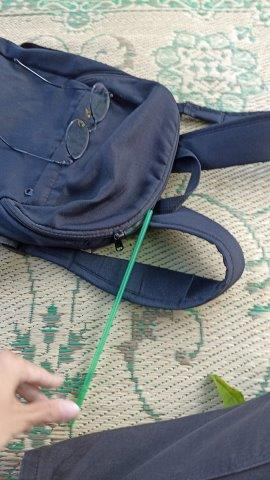sedotan: (77, 209, 152, 407)
